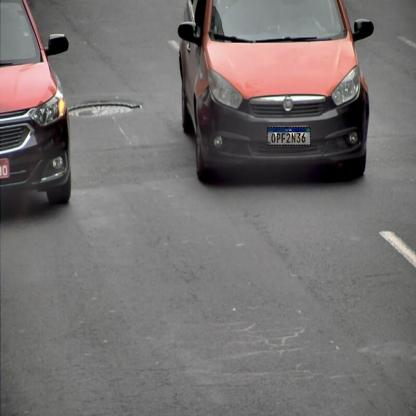PlacaM: (267, 127, 311, 145)
